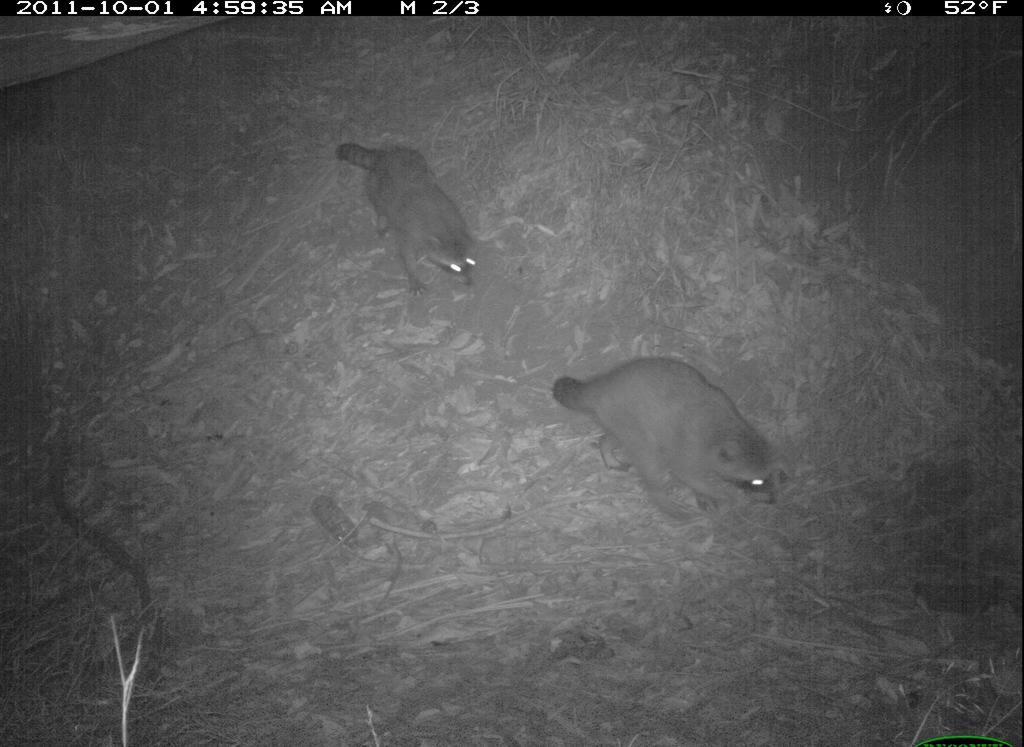raccoon: (541, 349, 786, 536), (328, 130, 488, 309)
